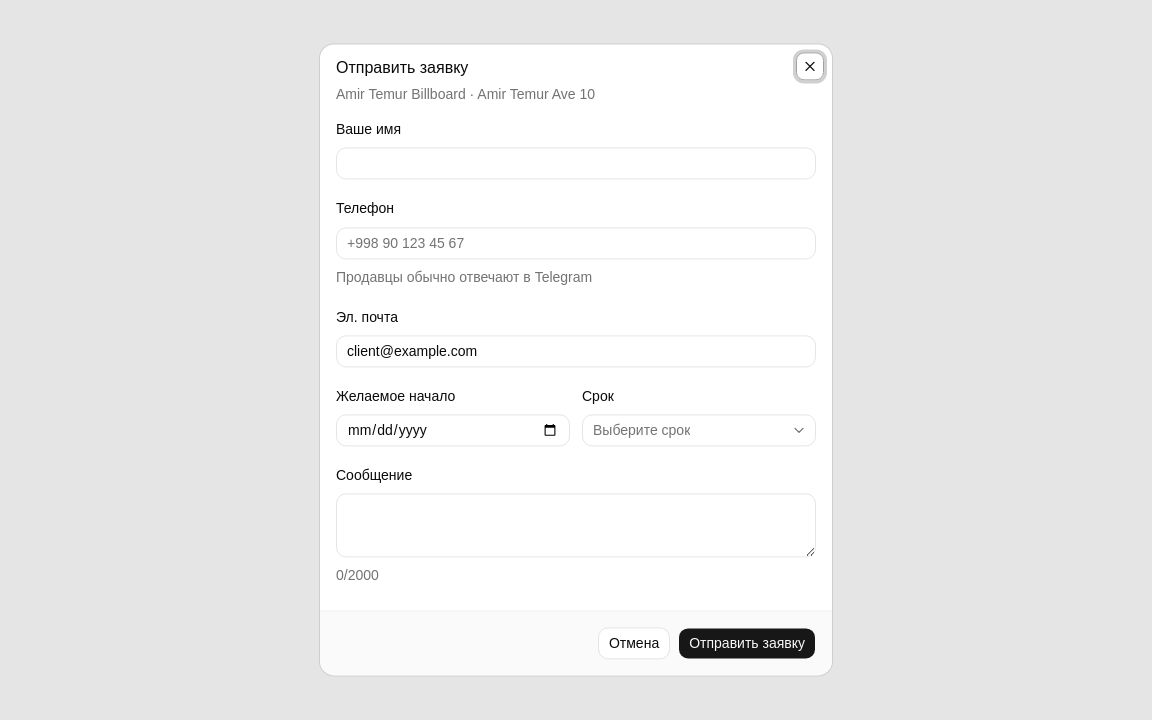
Test: the inquiry form in Russian › turns a locally caught Zod code into the same Russian message
In the field labelled "Телефон": (576, 243) [336,227,816,259], type "12345"
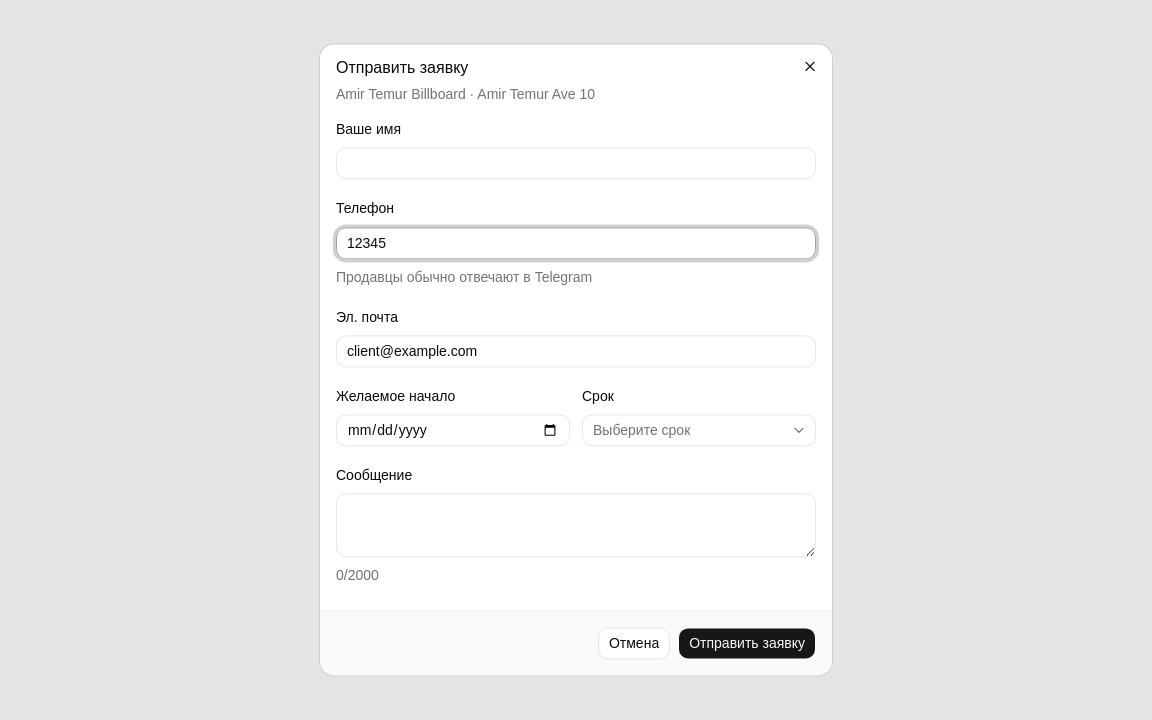
Click the button "Отправить заявку": click(747, 644) [678,628,816,660]
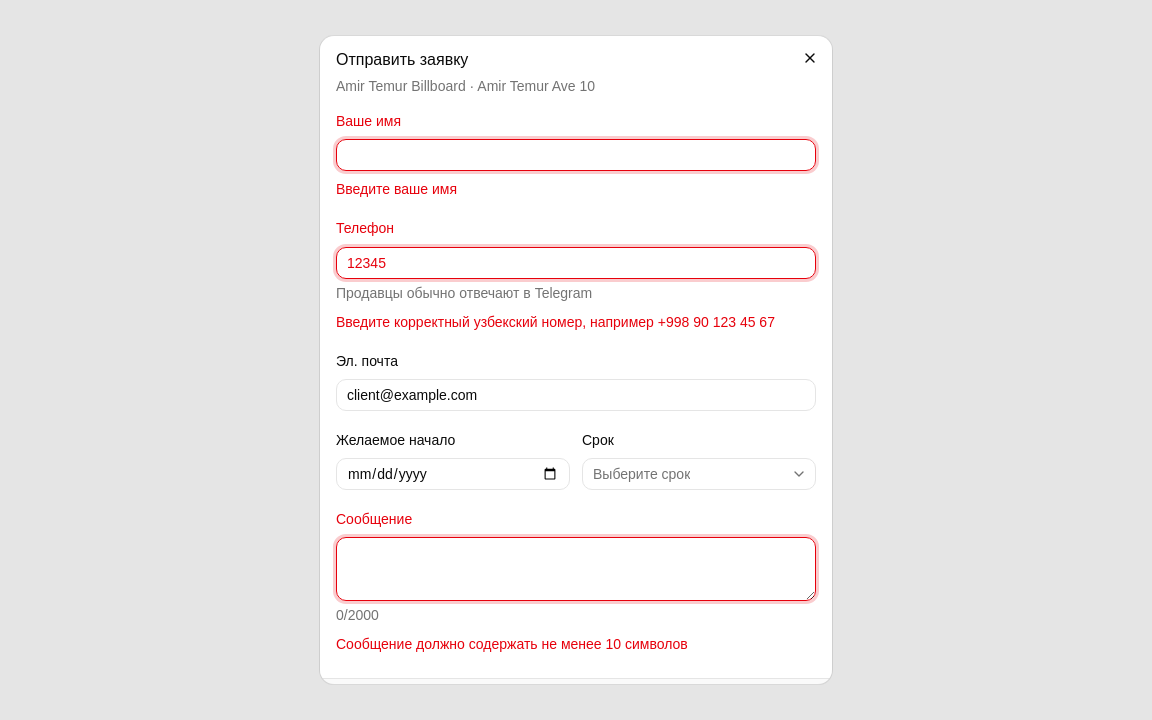
expect the text "Введите корректный узбекский номер, например +998 90 123 45 67" is shown: met, box [336,312,816,332]
